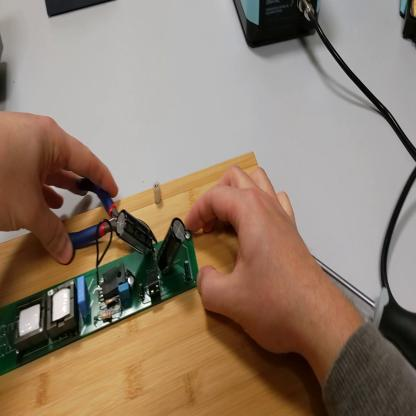hand: (185, 162, 313, 355), (2, 110, 117, 268)
high voltage board: (2, 211, 201, 379)
pliers: (68, 183, 160, 254)
screwdriver-: (310, 254, 416, 369)
welder base: (399, 1, 416, 49)
welder station: (235, 3, 324, 52)
working area: (1, 154, 329, 415)
